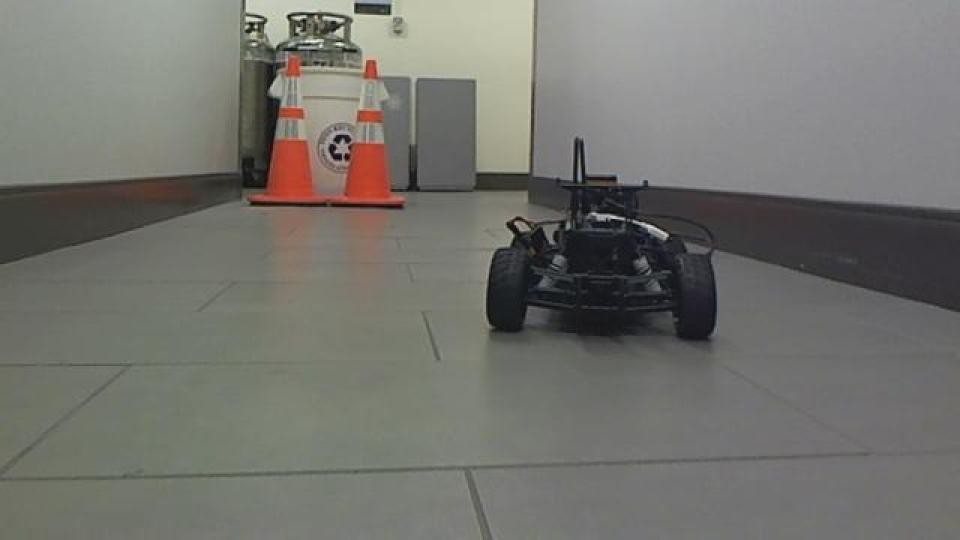car: (482, 135, 722, 342)
